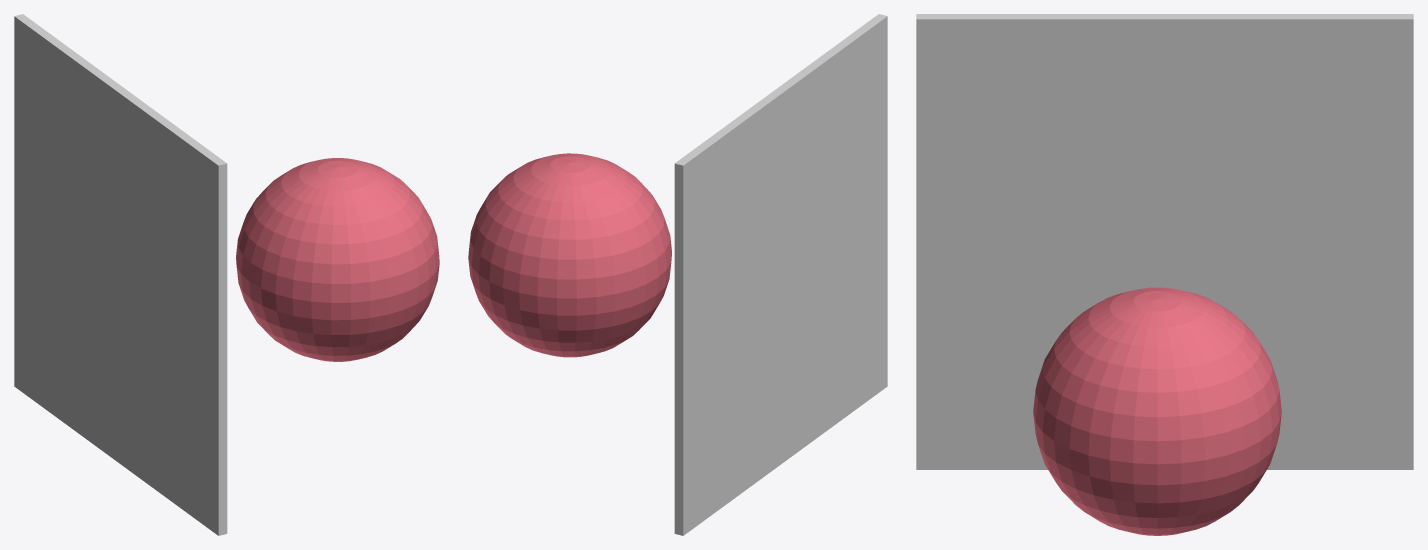
Rendered from glass.gltf.
The picture shows the model from 3 angles, left to right: view 1: azimuth 30°, elevation 25°; view 2: azimuth 150°, elevation 25°; view 3: azimuth 270°, elevation 25°; orthographic projection. The views are drawn at different scales.
Parts seen in each view (by area): view 1: Cube, Sphere; view 2: Cube, Sphere; view 3: Cube, Sphere.
Boxes of the visible parts, x1,y1,x2,y2 form: Cube: (14, 14, 227, 535); Sphere: (236, 158, 439, 361); Cube: (674, 14, 887, 535); Sphere: (468, 153, 671, 357); Cube: (916, 14, 1413, 469); Sphere: (1033, 287, 1281, 535).
Size of the model in its own units: 3.47 by 4 by 4.
